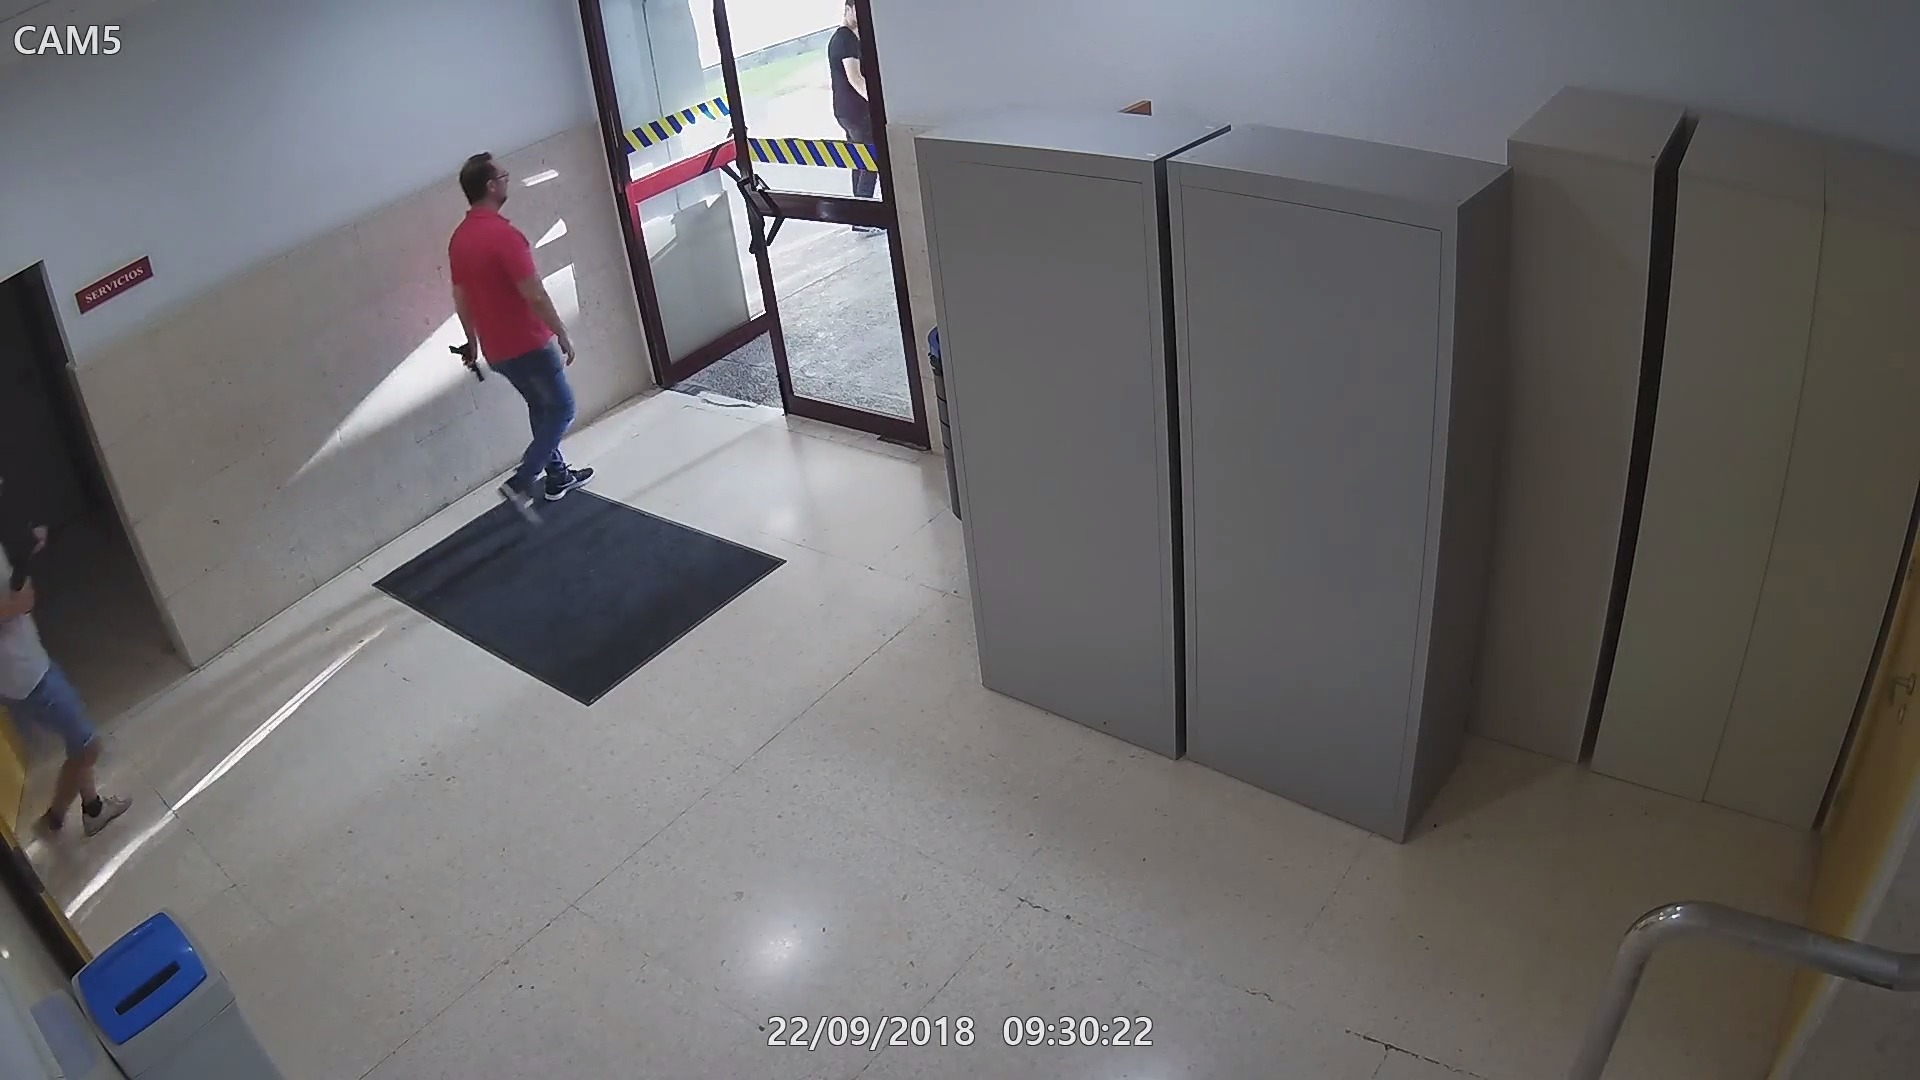Handgun: (440, 338, 487, 386)
Short_rifle: (5, 508, 51, 626)
